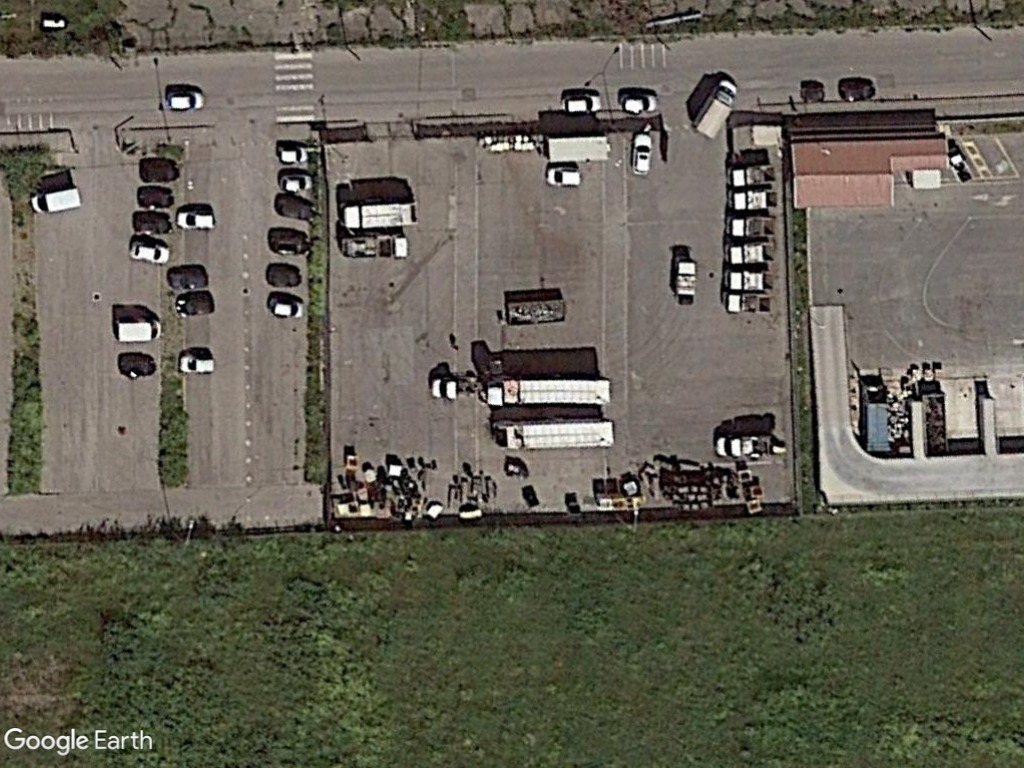car: (126, 237, 174, 265), (542, 163, 585, 189), (617, 91, 662, 115), (174, 209, 218, 233), (267, 294, 306, 321), (177, 351, 219, 376), (560, 92, 605, 115), (164, 89, 206, 113), (277, 171, 316, 193), (275, 145, 312, 165)
longvehicle: (477, 375, 616, 410), (490, 418, 620, 451)
truck: (691, 74, 742, 142), (338, 200, 424, 233)
van: (28, 184, 83, 218), (625, 128, 656, 179), (113, 314, 164, 344)
